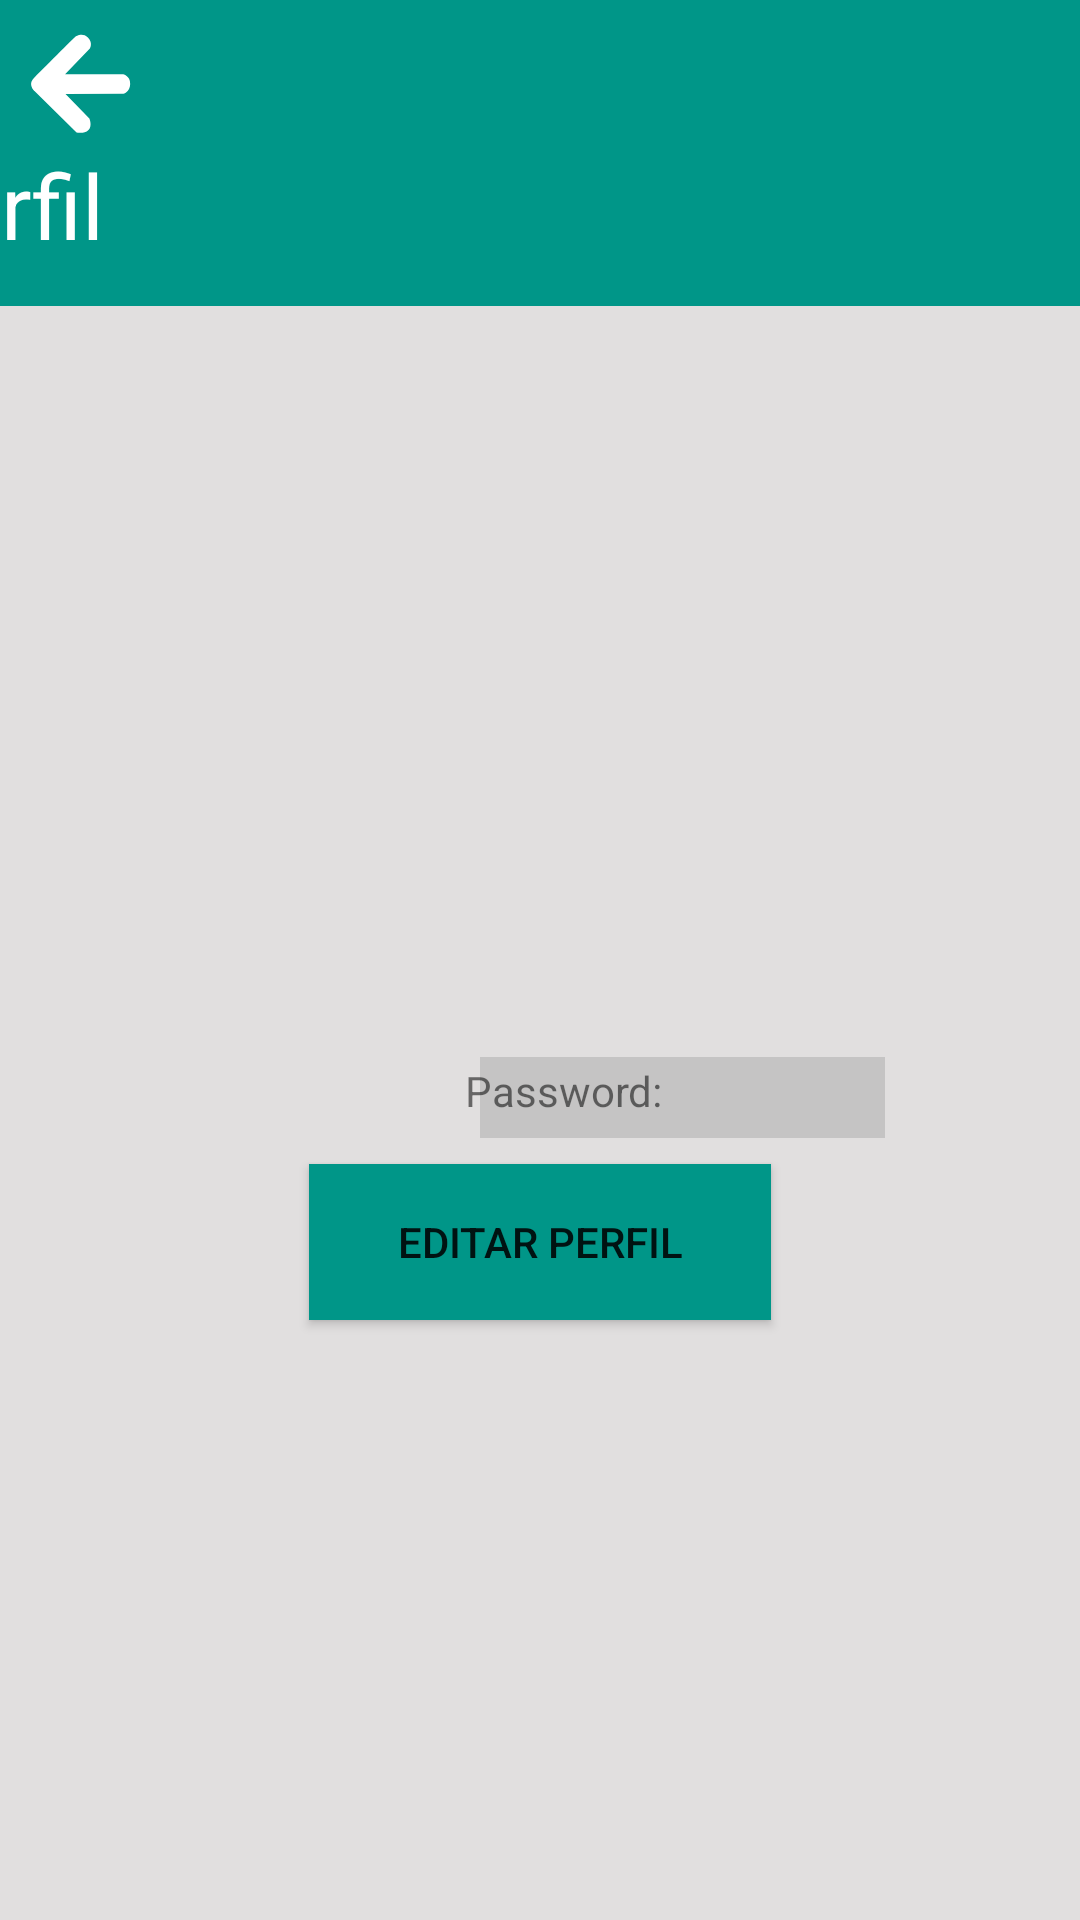

Named icons in this screenshot (1080px x 1920px) and their bounding boxes, (x1, y1, x2, y2):
seta: (31, 34, 131, 133)
